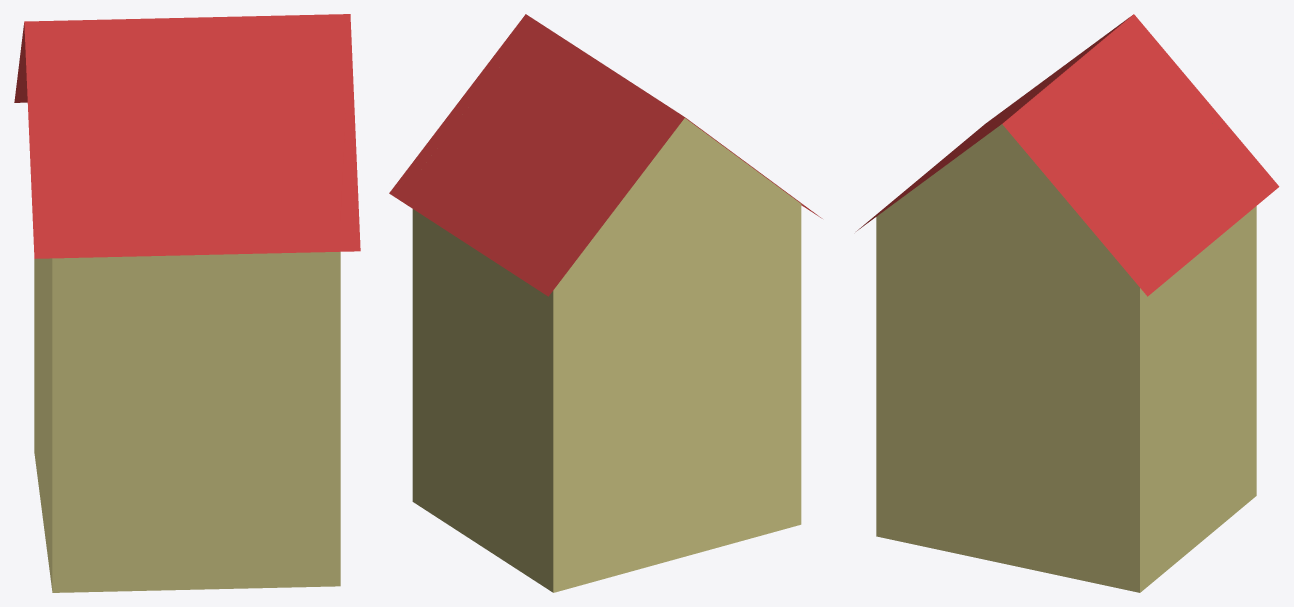
The picture shows the model from 3 angles, left to right: view 1: azimuth 30°, elevation 25°; view 2: azimuth 150°, elevation 25°; view 3: azimuth 270°, elevation 25°; orthographic projection. The views are drawn at different scales.
Size of the model in its own units: 12 by 12.5 by 14.48.
